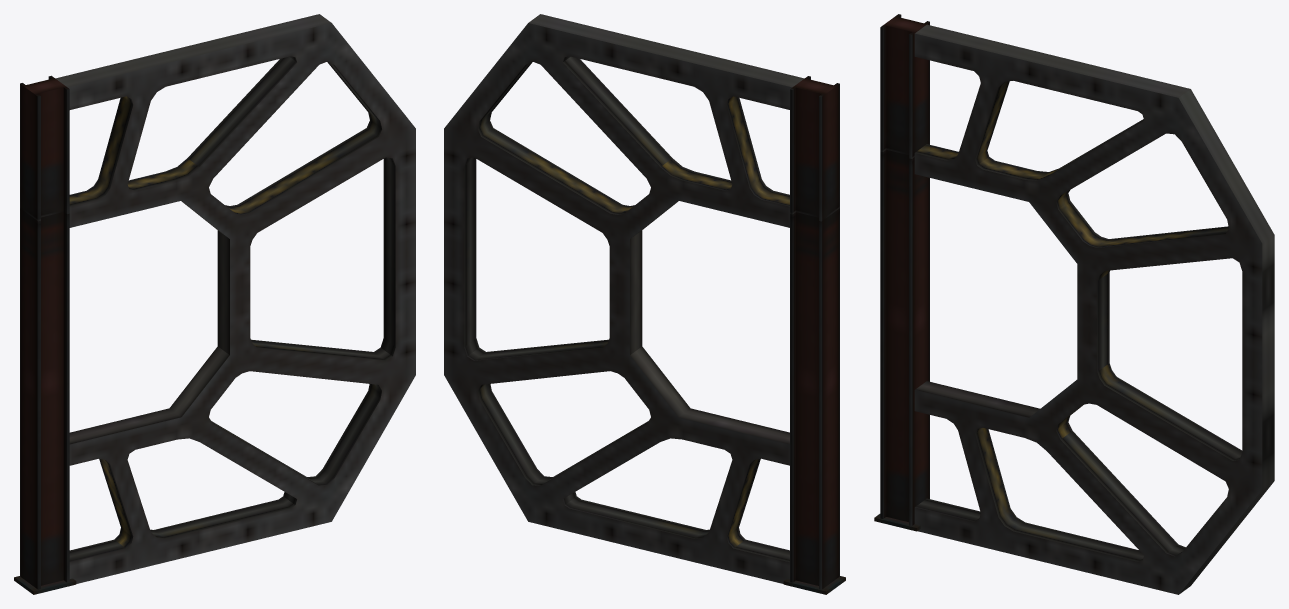
The model's file is Bulkhead_4.FBX.
The picture shows the model from 3 angles, left to right: view 1: azimuth 30°, elevation 25°; view 2: azimuth 150°, elevation 25°; view 3: azimuth 330°, elevation 25°; orthographic projection.
Parts seen in each view (by area): view 1: Bulkhead_4; view 2: Bulkhead_4; view 3: Bulkhead_4.
Boxes of the visible parts, x1,y1,x2,y2 form: Bulkhead_4: [14, 14, 415, 594]; Bulkhead_4: [444, 14, 845, 594]; Bulkhead_4: [874, 14, 1274, 594].
Size of the model in its own units: 326 by 403 by 28.58.
